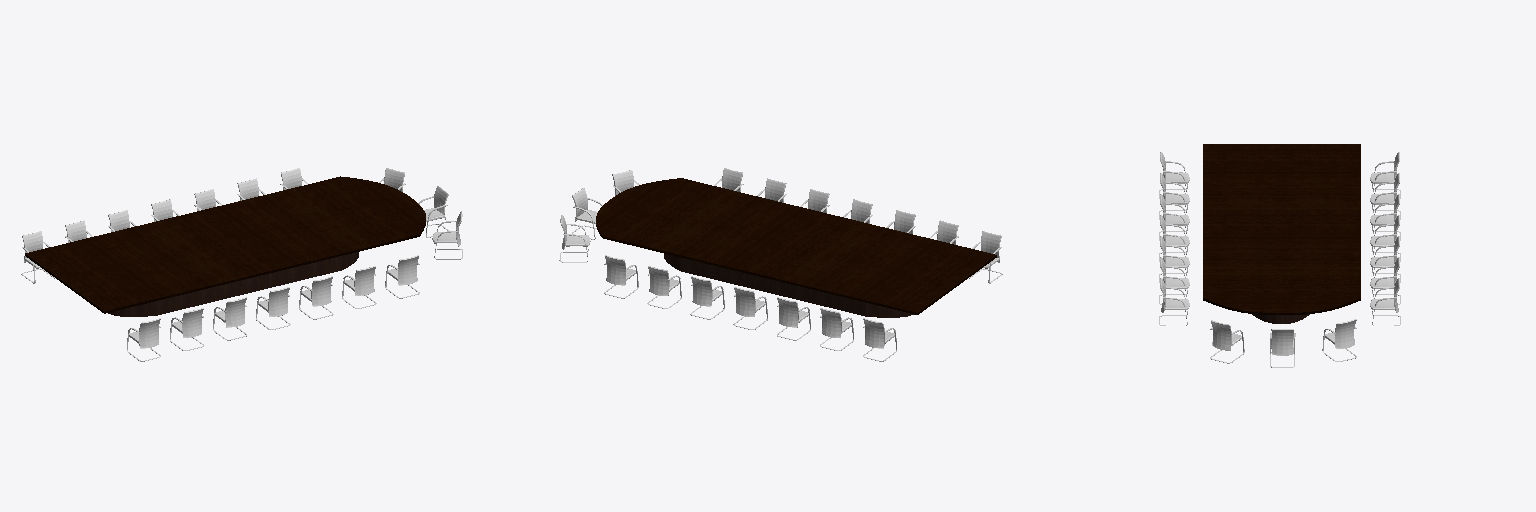
3 views of the same model, side by side, from view 1: azimuth 30°, elevation 25°; view 2: azimuth 150°, elevation 25°; view 3: azimuth 270°, elevation 25° (orthographic).
Parts seen in each view (by area): view 1: Rectangle05, Line[number redacted], Line[number redacted], Line[number redacted], Line[number redacted], Line[number redacted], Line[number redacted], Line[number redacted], Line[number redacted]; view 2: Rectangle05, Line[number redacted], Line[number redacted], Line[number redacted], Line[number redacted], Line[number redacted], Line[number redacted], Line[number redacted], Line[number redacted], Line[number redacted]; view 3: Rectangle05, Line[number redacted], Line[number redacted], Line[number redacted].
Part boxes in pixels (x1,y1,x2,y2): Rectangle05: (25, 176, 425, 316); Line[number redacted]: (127, 318, 160, 361); Line[number redacted]: (170, 308, 203, 350); Line[number redacted]: (213, 297, 246, 340); Line[number redacted]: (256, 287, 290, 329); Line[number redacted]: (385, 255, 419, 298); Line[number redacted]: (299, 276, 333, 319); Line[number redacted]: (342, 266, 376, 308); Line[number redacted]: (418, 186, 448, 237); Rectangle05: (596, 178, 996, 317); Line[number redacted]: (863, 318, 896, 361); Line[number redacted]: (820, 308, 853, 350); Line[number redacted]: (777, 297, 810, 340); Line[number redacted]: (733, 287, 767, 329); Line[number redacted]: (604, 255, 638, 298); Line[number redacted]: (690, 276, 724, 319); Line[number redacted]: (647, 266, 681, 308); Line[number redacted]: (572, 188, 602, 239); Line[number redacted]: (969, 231, 1002, 283); Rectangle05: (1203, 144, 1360, 323); Line[number redacted]: (1322, 319, 1356, 361); Line[number redacted]: (1270, 329, 1295, 367); Line[number redacted]: (1210, 320, 1244, 363).
Size of the model in its own units: 856 by 83.56 by 472.
Materials: 2 (1 with a texture image).